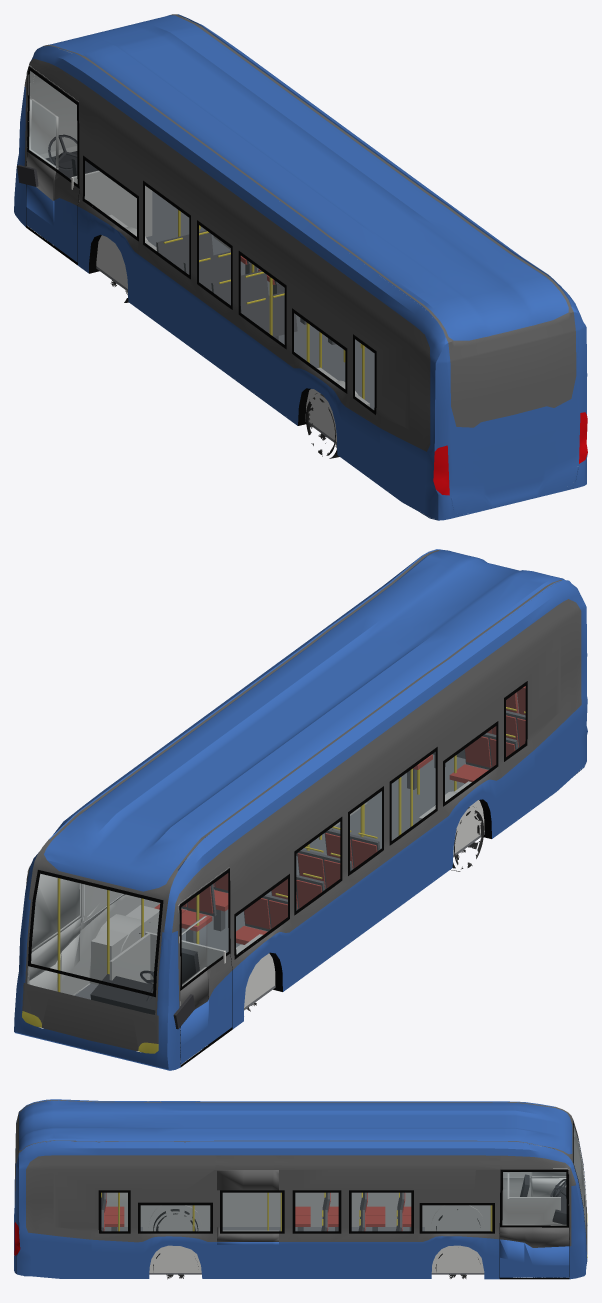
Rendered from brt_bus.glb.
3 renders of one model, top to bottom at view 1: azimuth 30°, elevation 25°; view 2: azimuth 150°, elevation 25°; view 3: azimuth 270°, elevation 25°, orthographic. The views are drawn at different scales.
Parts seen in each view (by area): view 1: body, door_FL; view 2: body, door_P1, door_FL; view 3: body, door_P1, door_P2, door_FL.
Boxes of the visible parts, <box> form: body: <box>14,14,587,520</box>; door_FL: <box>26,96,58,246</box>; body: <box>14,549,587,1070</box>; door_P1: <box>27,869,82,995</box>; door_FL: <box>179,915,208,1065</box>; body: <box>14,1099,587,1279</box>; door_P1: <box>500,1170,569,1278</box>; door_P2: <box>217,1170,278,1278</box>; door_FL: <box>531,1172,566,1224</box>.
Bounding box in the file's own units: 2.57 × 3.37 × 12.02.
